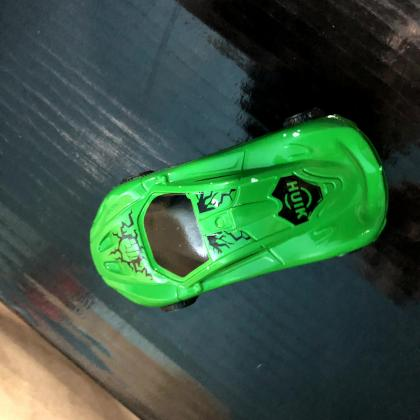Car: (86, 110, 392, 312)
